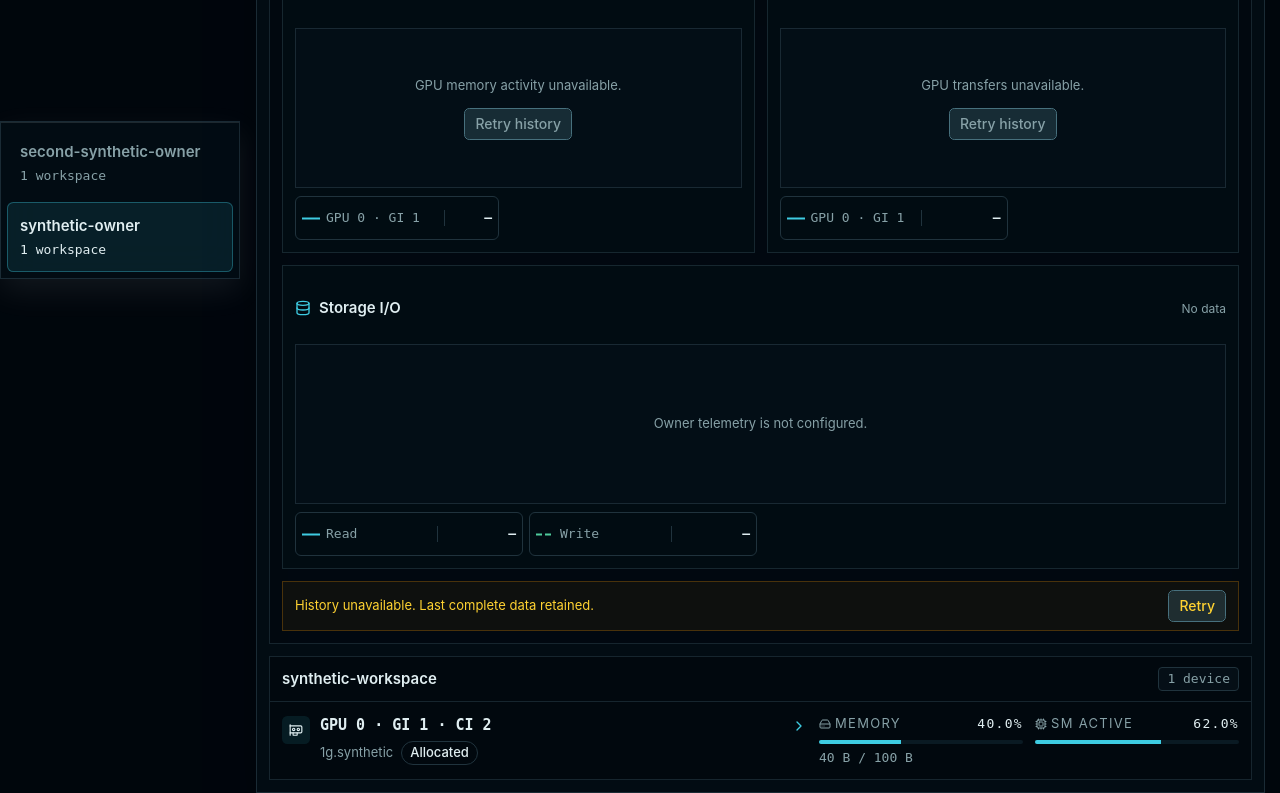
Test: people resource view › retains the live plot while retrying failed history locally
This screenshot has width=1280, height=793.
(page scrolled)
Expected: the text "History unavailable. Last complete data retained." is shown, 295,596 -> 594,616
Click the button "Retry" at (1197,606), box 1168,590 -> 1226,622
(page scrolled)
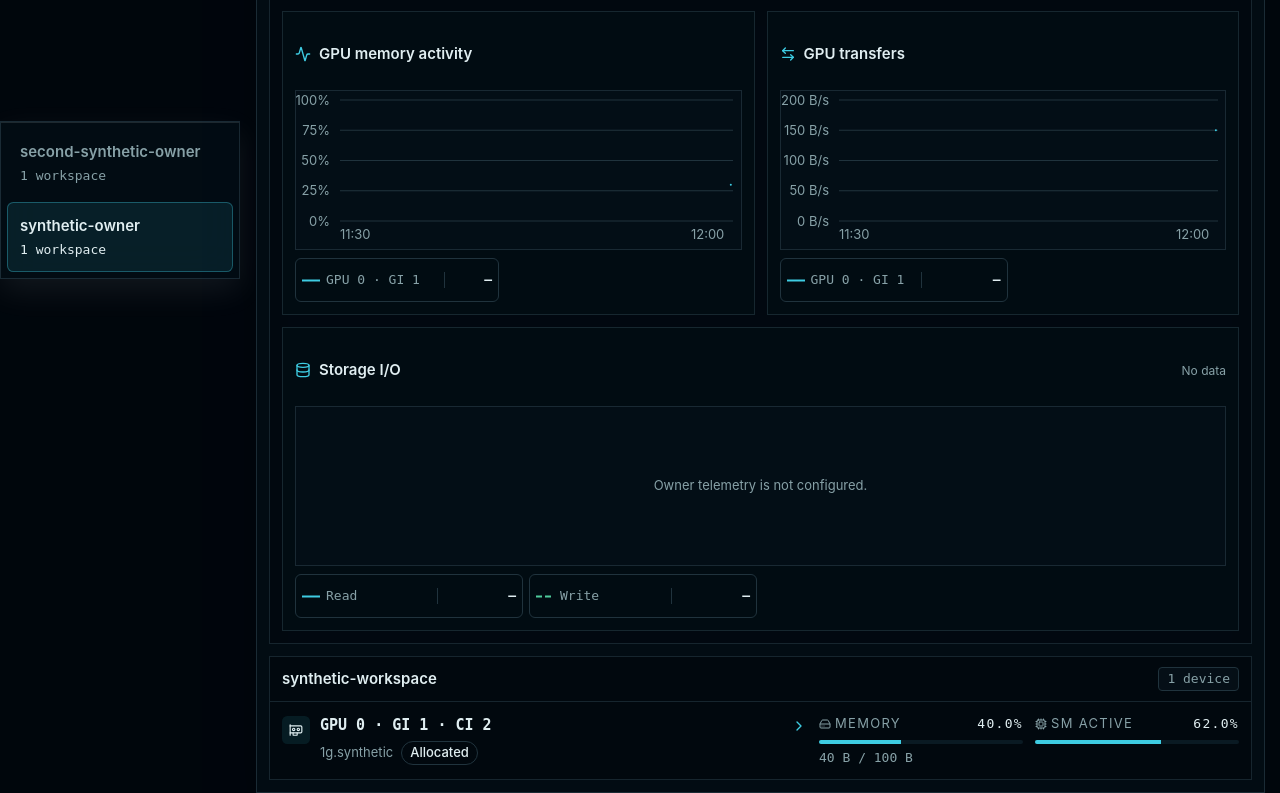
Result: the text "History unavailable. Last complete data retained." is gone
